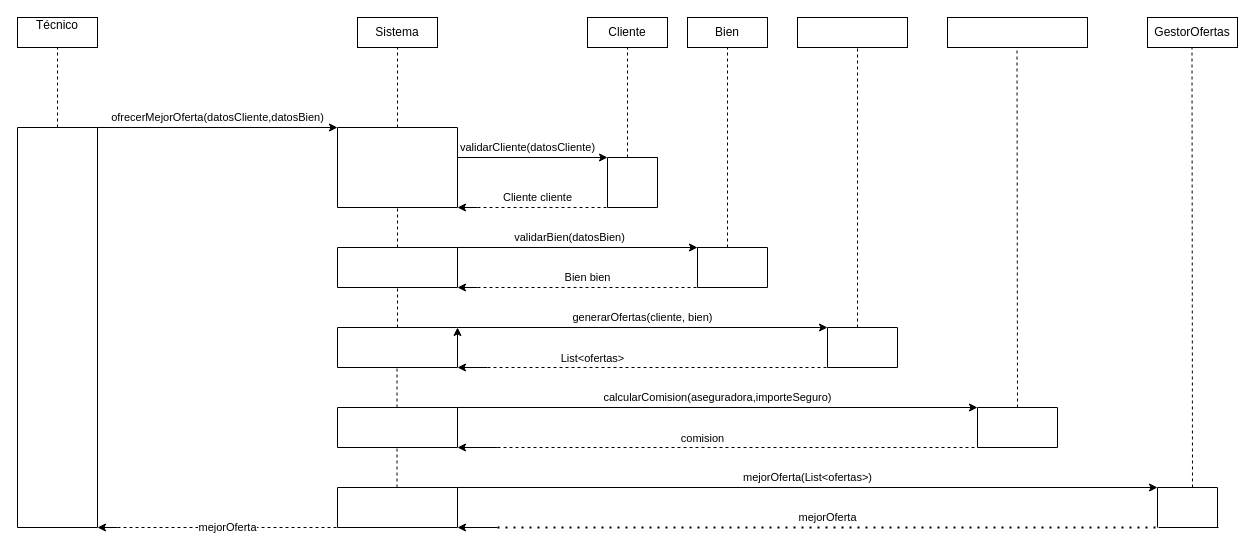
Image size: 1255x553. Some labels were removed from this diagram. The box of each missing label's shape, as (x1, y1, x2, y2) in pixels:
CalculadoraComisiones: (946, 16, 1088, 48)
CalculadoraOfertas: (796, 16, 908, 48)
